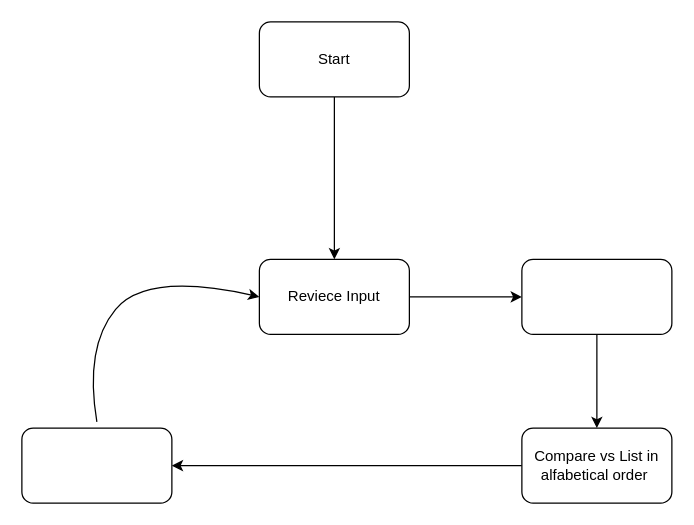
Some shapes in this 694 by 525 pixel diagram are drawn without their labels. Each missing label, with the centre of its shape:
"Determine Letter In albetical order" belongs at point 596,296.
"Put in right place compared to everything else" belongs at point 96,465.
